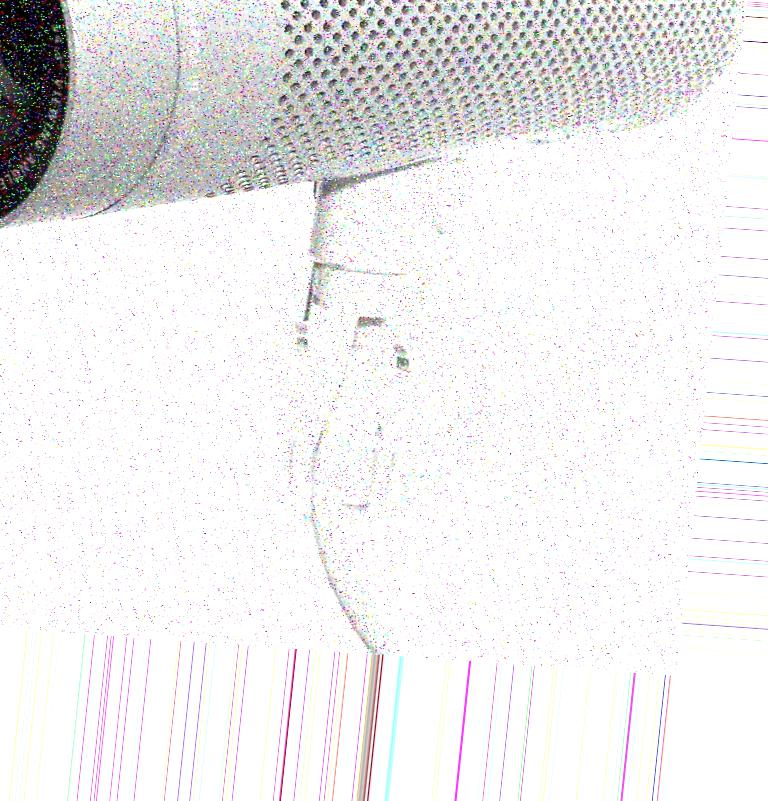webcam: (1, 1, 744, 233)
